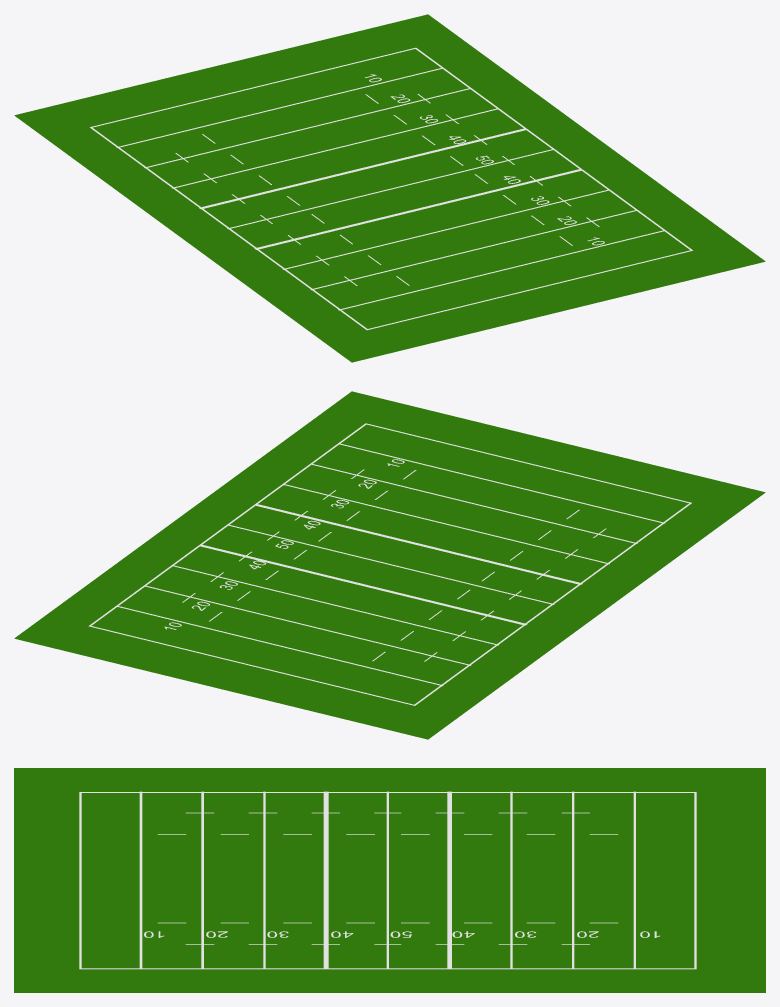
Rendered from Rugby_Pitch.fbx.
3 views of the same model, one above another, from view 1: azimuth 30°, elevation 25°; view 2: azimuth 150°, elevation 25°; view 3: azimuth 270°, elevation 25° (orthographic). The views are drawn at different scales.
Visible parts, largest first — view 1: Rugby_Pitch; view 2: Rugby_Pitch; view 3: Rugby_Pitch.
Boxes of the visible parts, x1,y1,x2,y2 form: Rugby_Pitch: (14,14,765,362); Rugby_Pitch: (14,391,765,739); Rugby_Pitch: (14,768,765,992).
Bounding box in the file's own units: 4403 × 2.22 × 6221.
